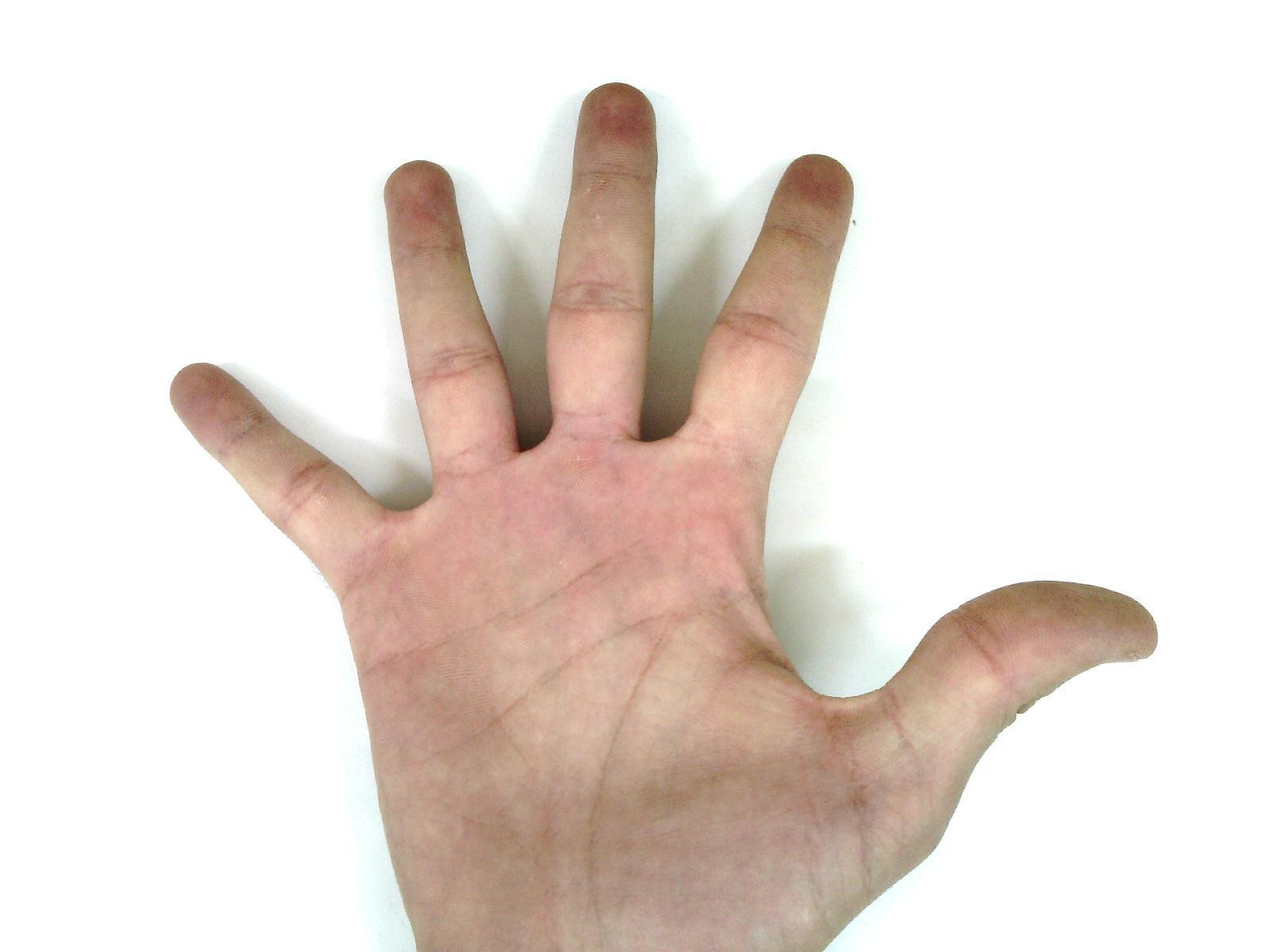open_palm: (167, 80, 1160, 951)
